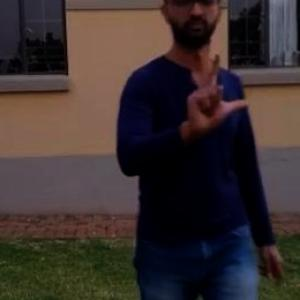land_hand: (173, 43, 253, 138)
